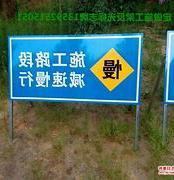sign: (9, 37, 139, 104)
